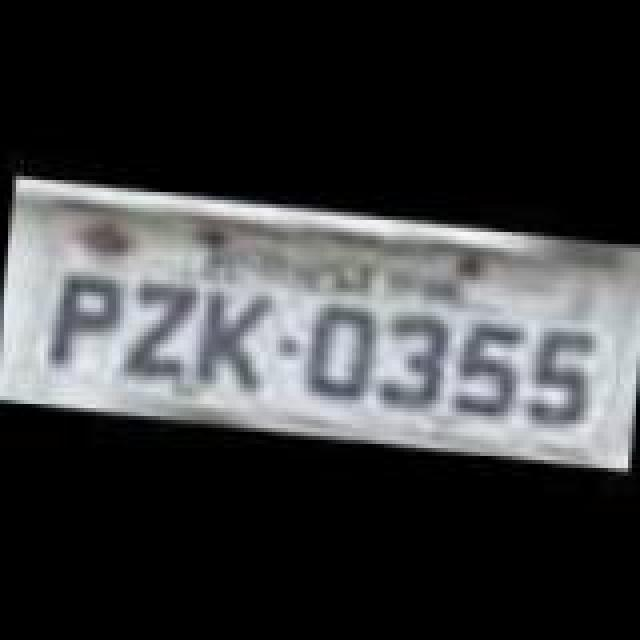3: (372, 306, 456, 410)
5: (450, 314, 530, 422), (520, 318, 596, 426)
K: (192, 284, 272, 392)
O: (300, 296, 380, 404)
P: (42, 264, 118, 376)
Z: (122, 276, 198, 384)
